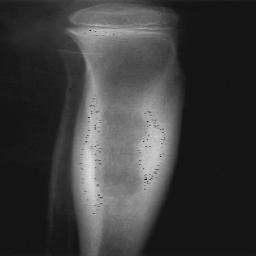cancer: (71, 73, 182, 256)
